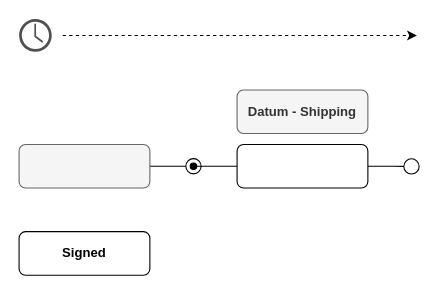
Image size: 448x294. Some labels were removed from this diagram. The centre of each missing label's shape, as x and y in pixels:
Plutus V3: [302,165]
Seller: [84,165]
